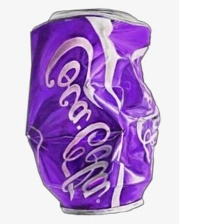can: (21, 5, 163, 217)
